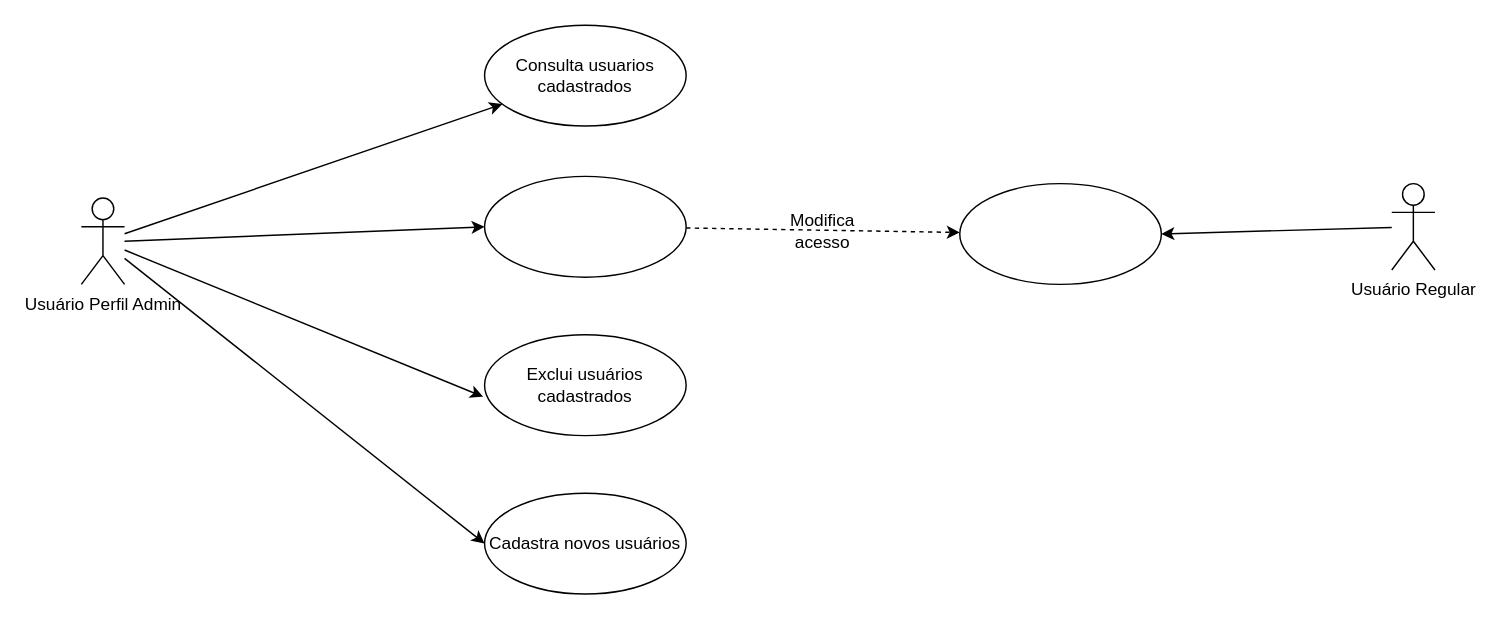
This 1500x619 diagram has some shape labels left out. The box of each missing label's shape, as (x1, y1, x2, y2) in pixels:
Acessa funcionalidades: (958, 182, 1161, 284)
Altera perfil de usuarios cadastrados: (483, 175, 686, 277)
